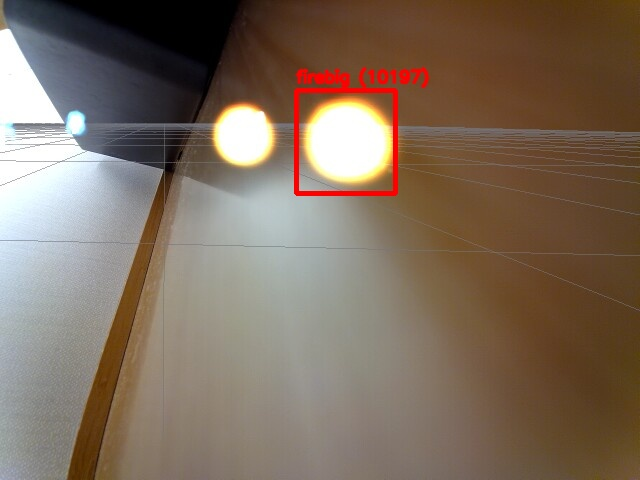firebig: (296, 90, 395, 193)
